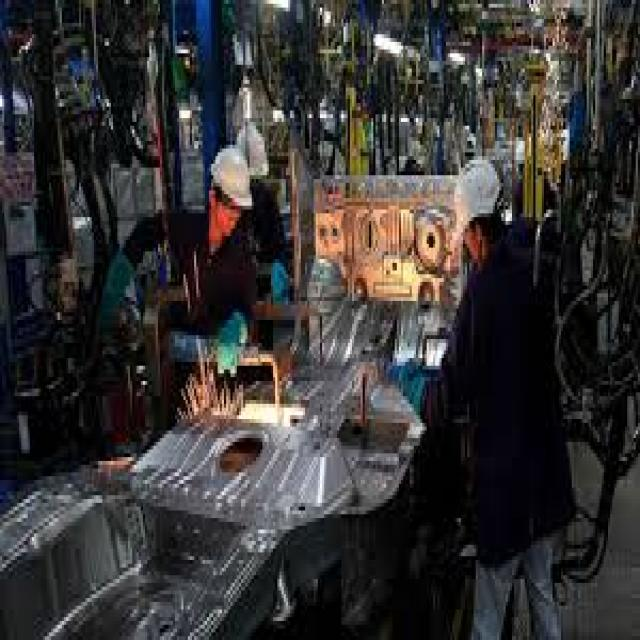Safety-Helmet: (448, 148, 510, 244), (203, 134, 258, 232)
